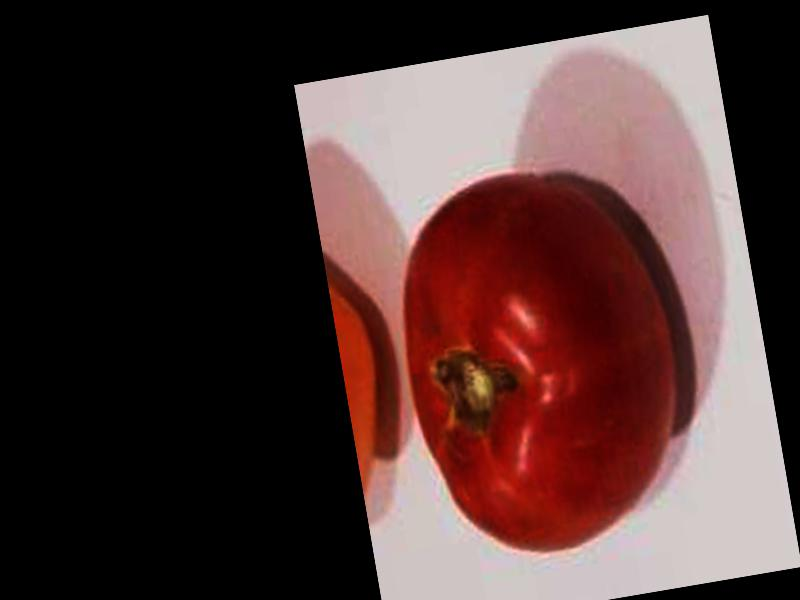Tomato: (381, 156, 699, 570)
